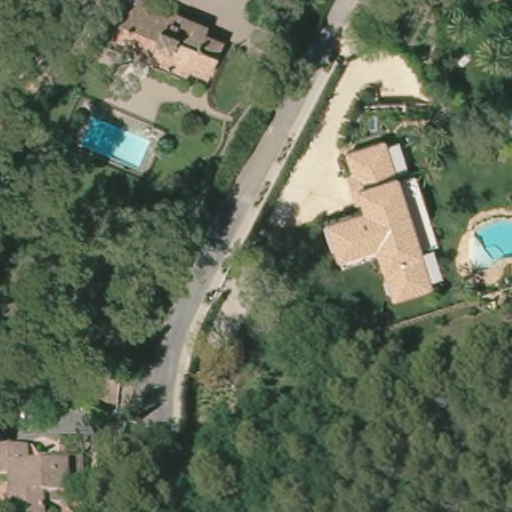pool: (74, 112, 152, 177), (467, 210, 512, 265)
